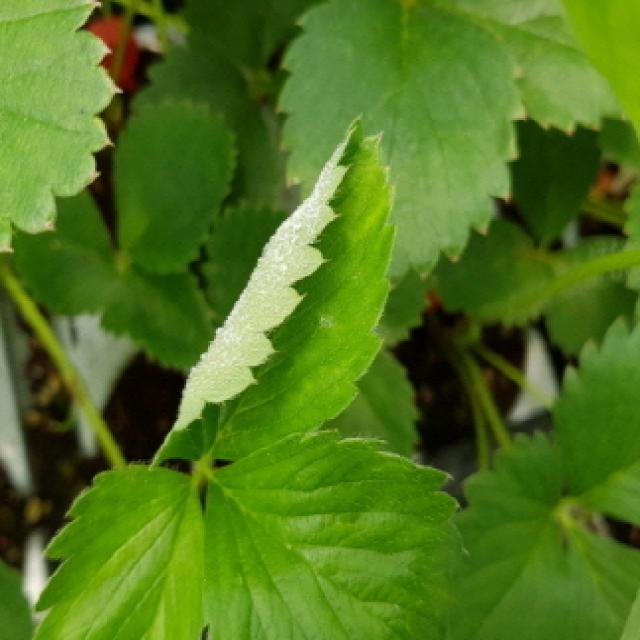Powdery Mildew Leaf: (149, 109, 398, 474)
